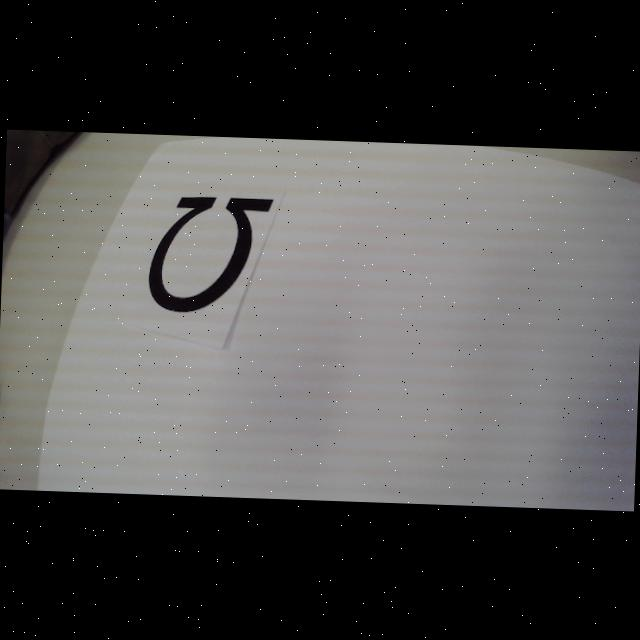OMEGA: (146, 193, 274, 315)
